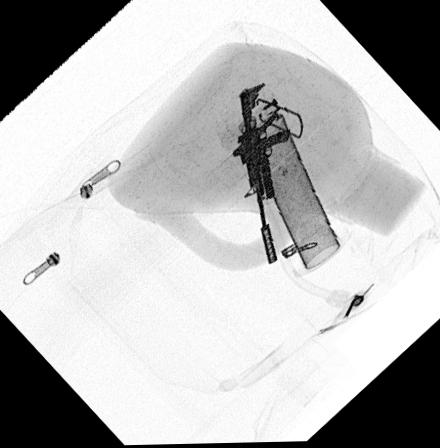Gun: (231, 81, 293, 265)
